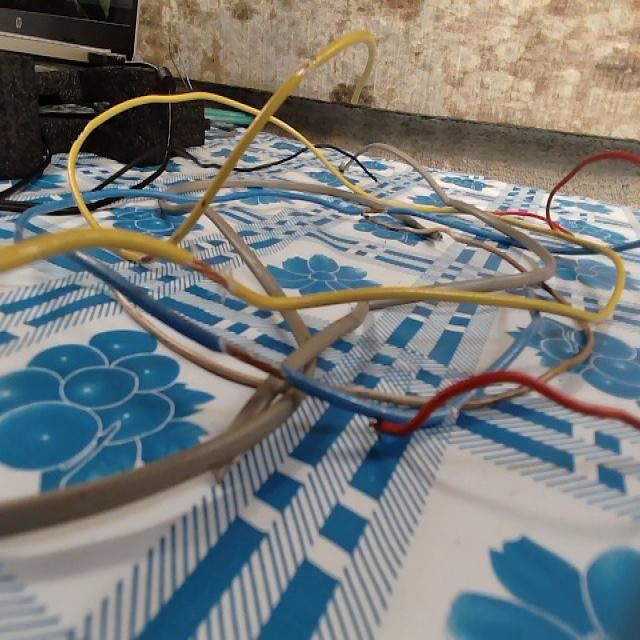-: (215, 332, 292, 384), (187, 255, 234, 296), (358, 200, 392, 224), (291, 53, 323, 76), (368, 413, 387, 436)
